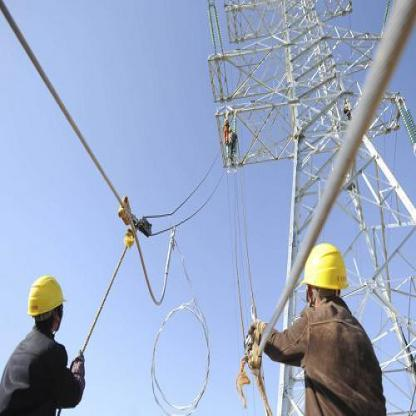helmet: (300, 240, 350, 323), (24, 266, 69, 342)
